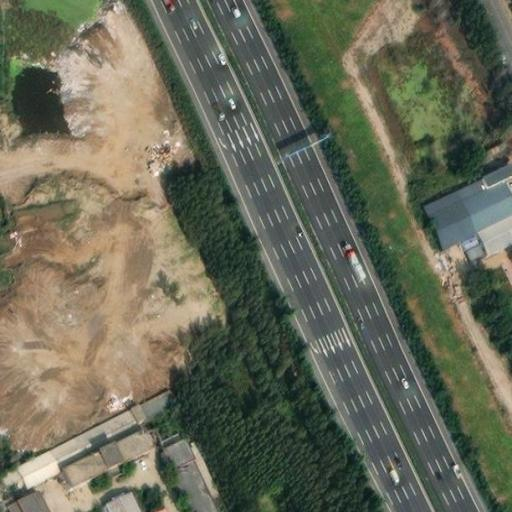building: (58, 415, 154, 483), (49, 398, 142, 459), (163, 433, 222, 512), (422, 183, 476, 240), (458, 172, 512, 224), (17, 442, 60, 481), (476, 208, 512, 251), (133, 380, 177, 415), (100, 484, 145, 512), (5, 483, 47, 512), (482, 160, 512, 182), (145, 496, 173, 512)
